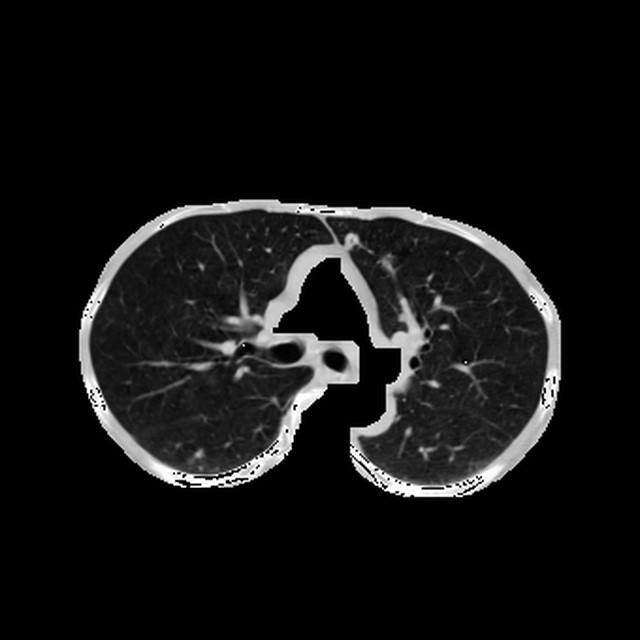PN: (343, 233, 358, 248)
